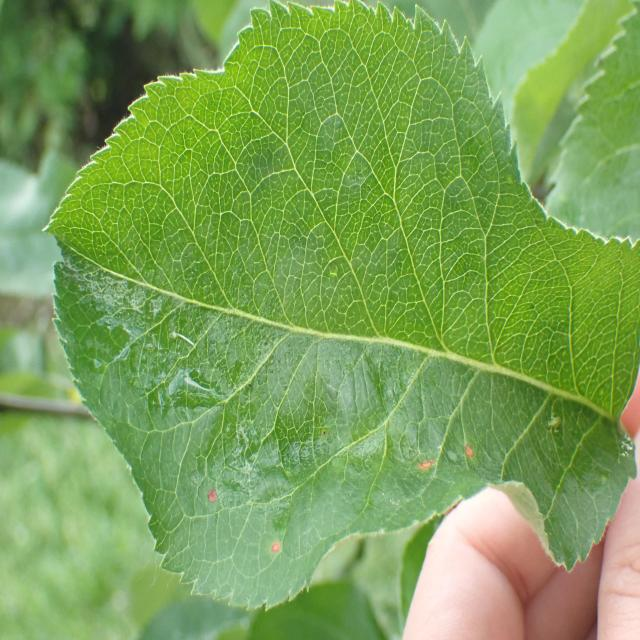Black Rot: (397, 440, 437, 490), (198, 484, 232, 529), (266, 525, 288, 571), (463, 438, 479, 476)
